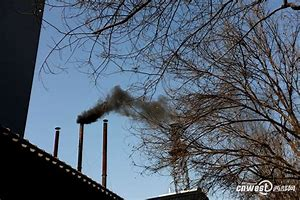smoke: (76, 84, 167, 125)
